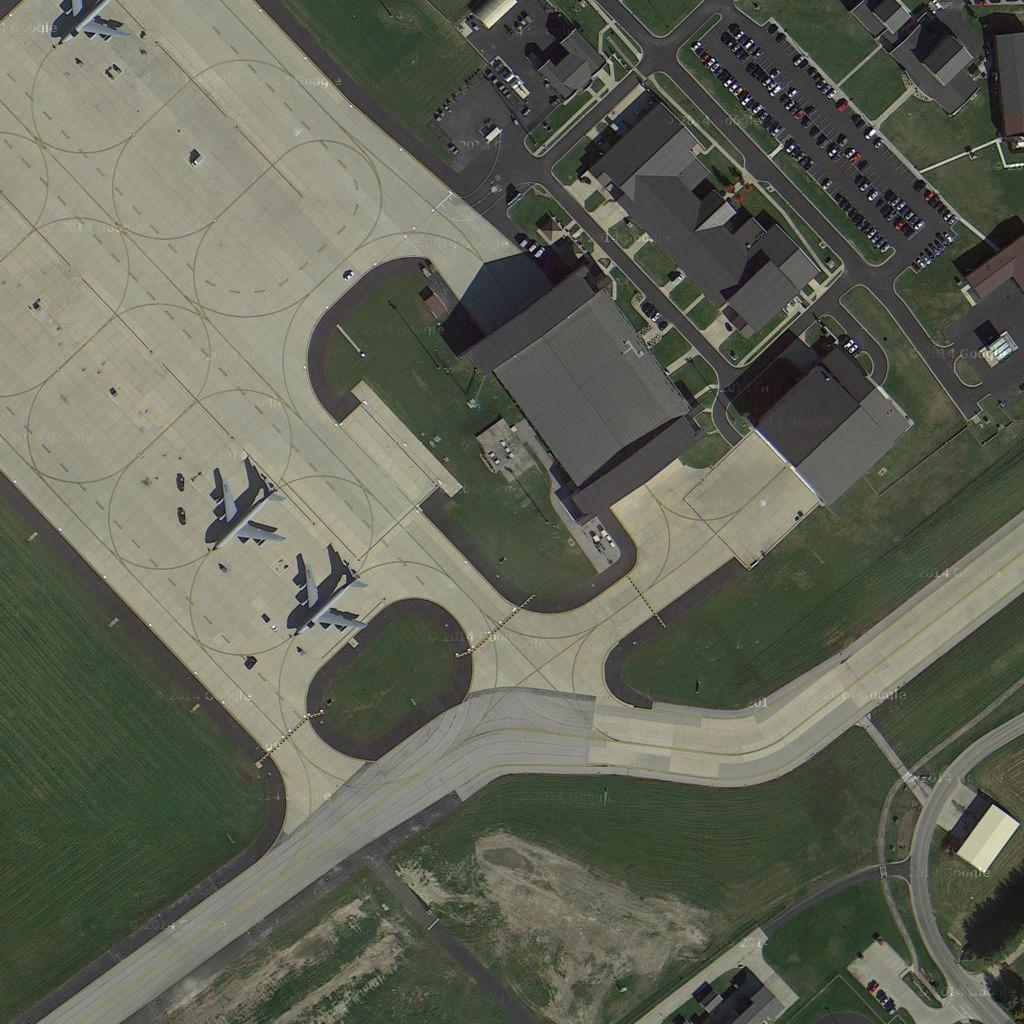KC-135: (203, 466, 294, 565), (286, 551, 369, 643), (54, 1, 135, 47)
